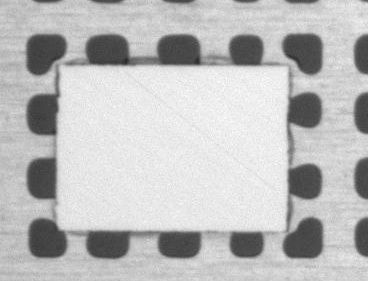DIE_CRACK: (164, 55, 360, 145)
